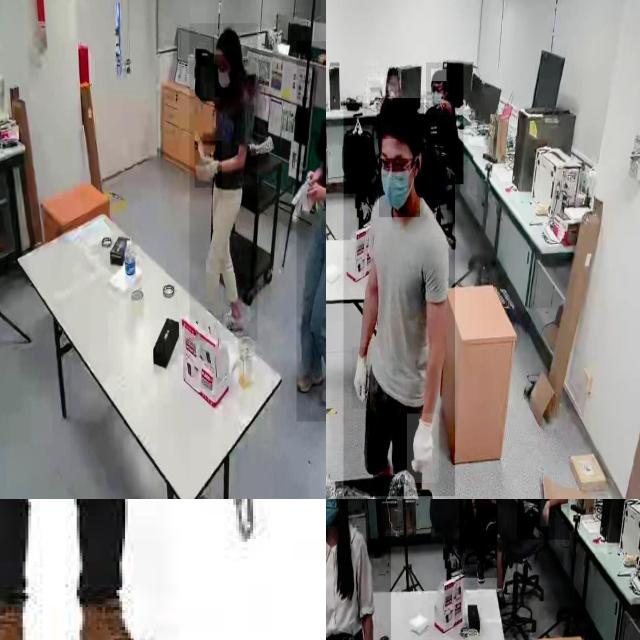face_mask: (379, 159, 420, 217), (214, 55, 233, 97), (433, 83, 447, 112), (326, 499, 337, 526)
face_nomask: (388, 81, 398, 98)
hand_glove: (407, 414, 439, 484), (194, 140, 222, 188), (352, 347, 370, 410)
hand_noglove: (308, 172, 326, 204), (540, 501, 550, 527), (470, 502, 478, 524)
head_nohelmet: (376, 98, 424, 140), (216, 28, 242, 54), (431, 69, 447, 82), (386, 66, 398, 77)
person: (344, 103, 456, 497), (190, 23, 258, 342), (296, 41, 326, 422), (326, 499, 391, 640), (426, 63, 464, 185), (459, 499, 498, 578), (517, 499, 570, 540)
shoes: (293, 362, 325, 399)
